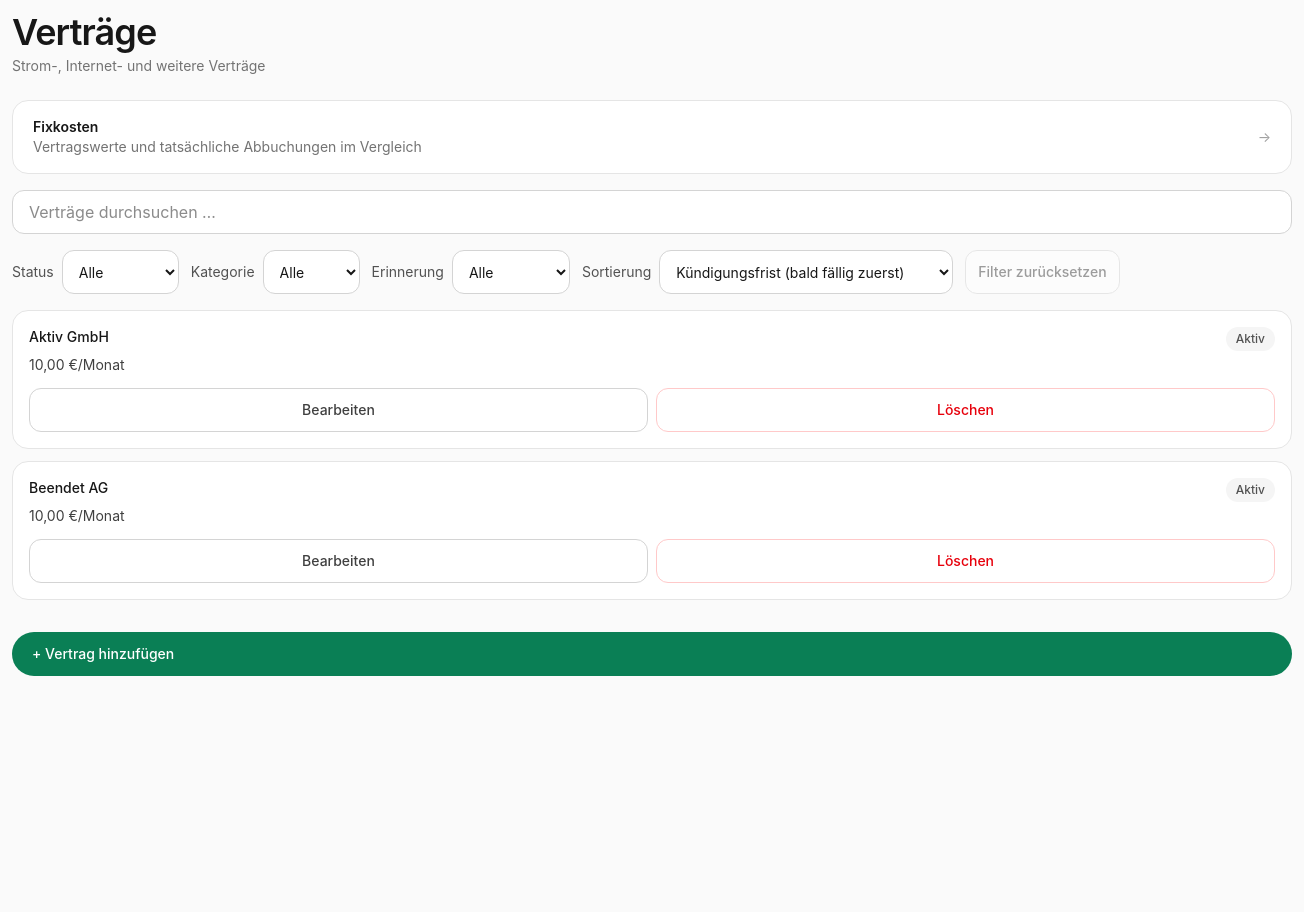
Test: ContractsPage › filters contracts by status (active/inactive), using the existing isContractActive() definition
Select "Aktiv" in the dropdown labelled "Status" at (120, 272), box [62, 250, 179, 294]
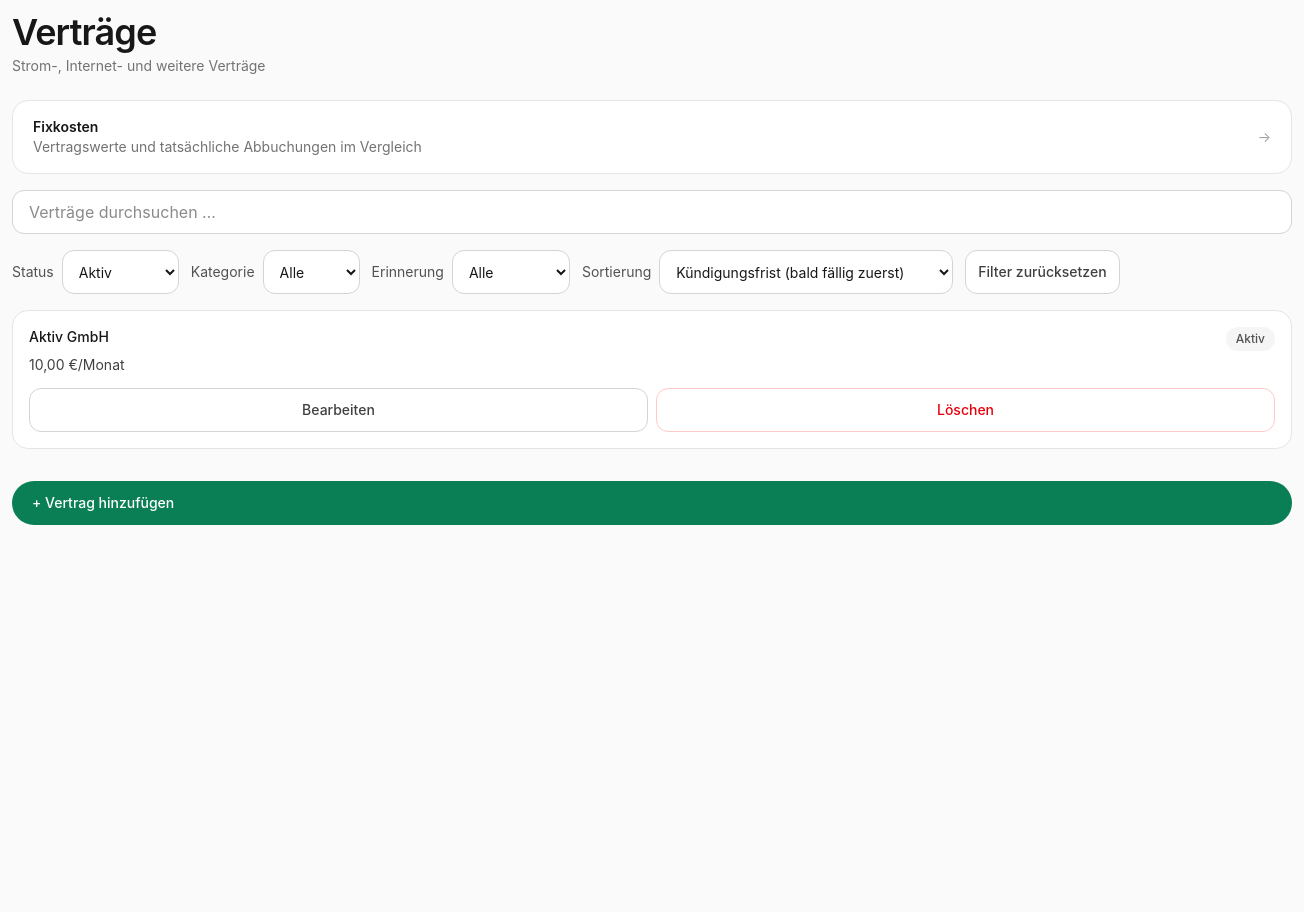
Expected: the text "Aktiv GmbH" is shown, [29, 327, 109, 347]
Result: the number of list items is 1 at [12, 310, 1292, 449]
Select "Nicht aktiv" in the dropdown labelled "Status" at (120, 272), box [62, 250, 179, 294]
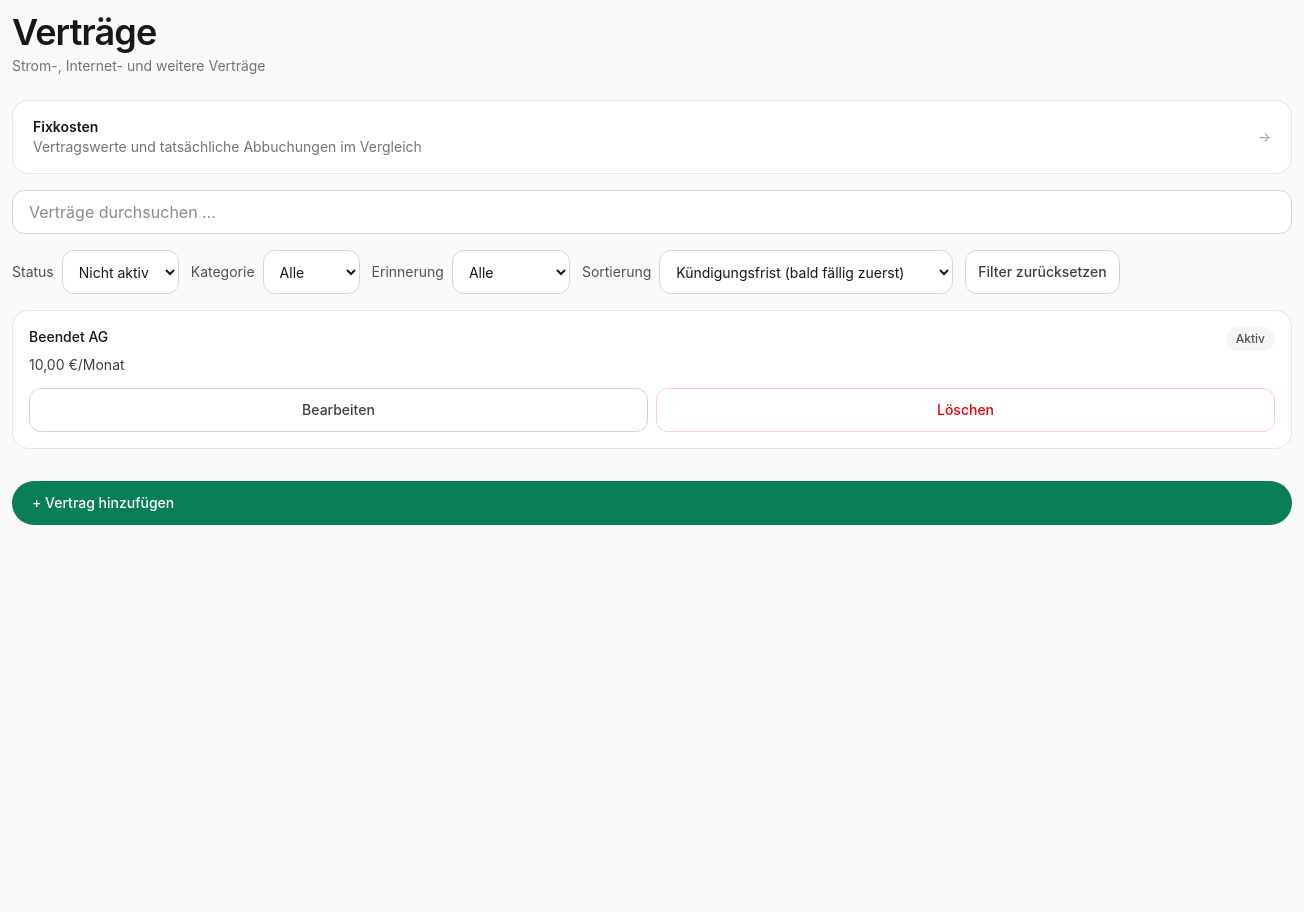
Result: the number of list items is 1 at [12, 310, 1292, 449]
Result: the text "Beendet AG" is shown at [29, 327, 108, 347]
